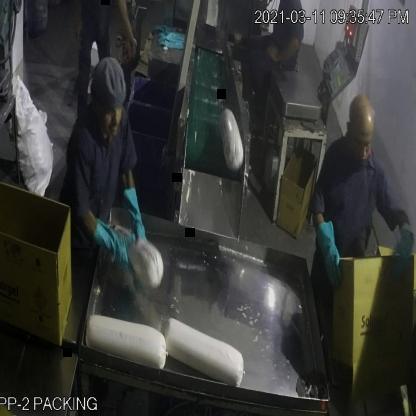glove: (310, 205, 350, 292), (121, 179, 156, 255), (388, 221, 416, 282)
no_glove: (113, 0, 144, 67), (260, 33, 302, 66)
